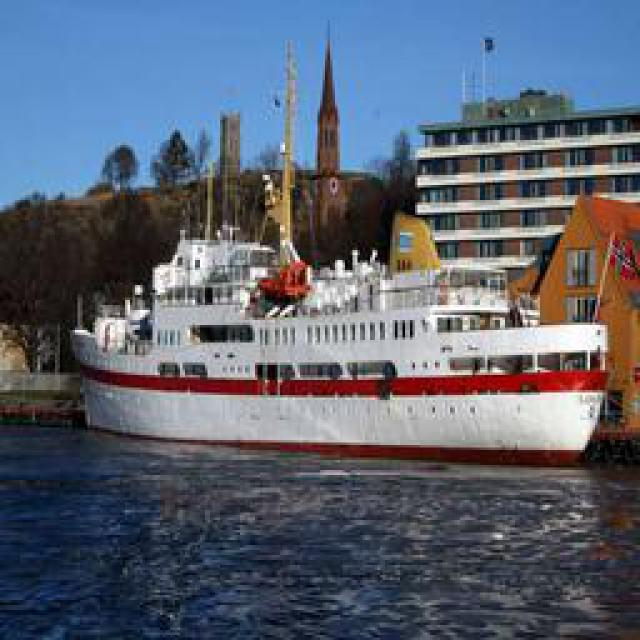Ship: (64, 240, 619, 463)
